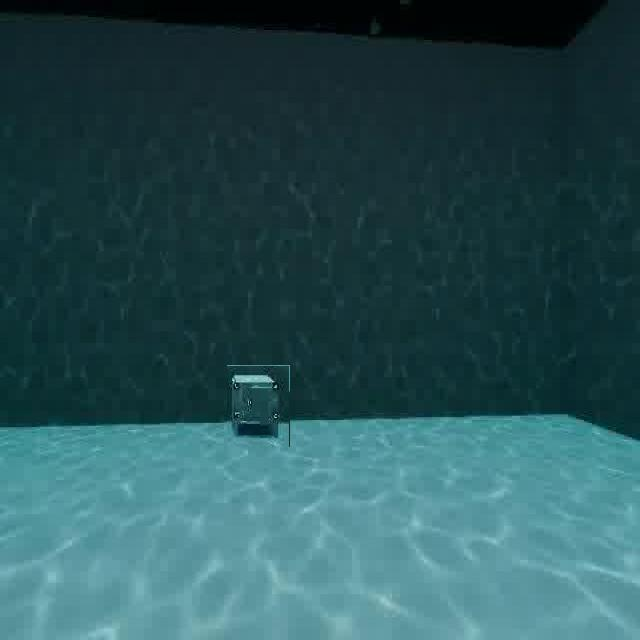Docking Station: (227, 365, 290, 447)
